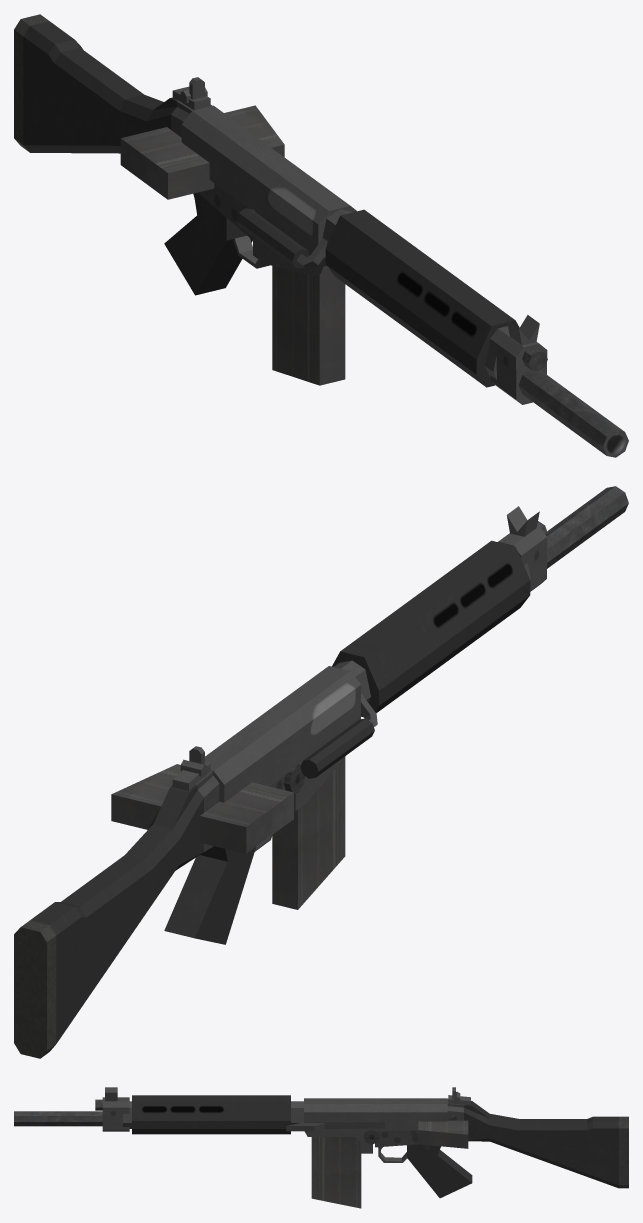
The model's file is Magazine_FAL.fbx.
3 renders of one model, top to bottom at view 1: azimuth 30°, elevation 25°; view 2: azimuth 150°, elevation 25°; view 3: azimuth 270°, elevation 25°, orthographic. The views are drawn at different scales.
Parts seen in each view (by area): view 1: FAL, Magazine_FAL; view 2: FAL, Magazine_FAL; view 3: FAL, Magazine_FAL.
Part boxes in pixels (bbox=[...]): FAL: bbox=[14, 14, 628, 457]; Magazine_FAL: bbox=[120, 105, 284, 199]; FAL: bbox=[14, 486, 628, 1058]; Magazine_FAL: bbox=[111, 764, 293, 853]; FAL: bbox=[14, 1087, 628, 1208]; Magazine_FAL: bbox=[418, 1120, 468, 1148].
Size of the model in its own units: 9.04 by 14.29 by 67.88.
